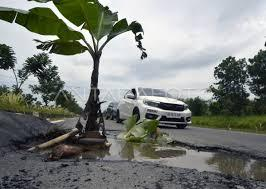Pothole: (36, 120, 264, 189)
